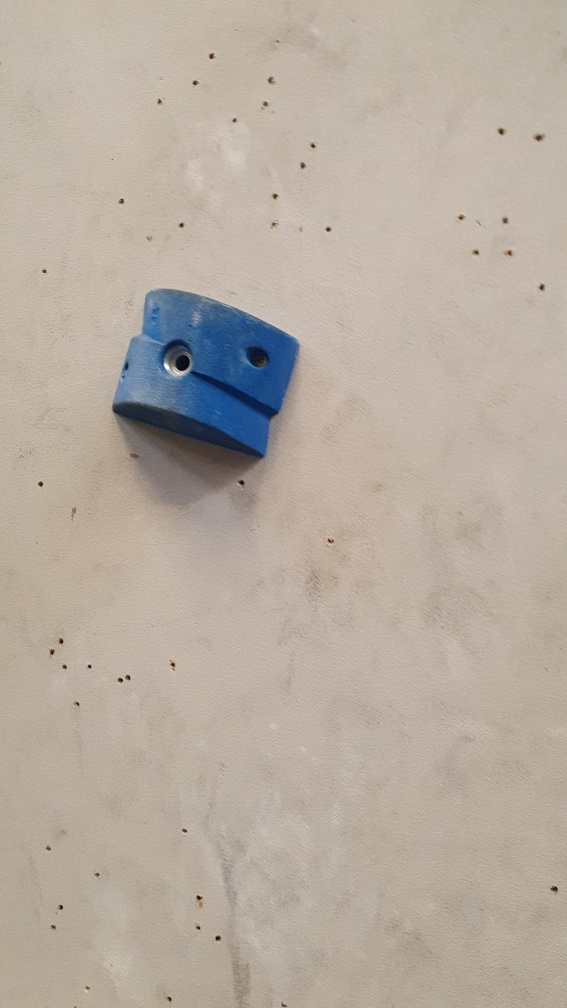Pinch: (111, 282, 301, 464)
